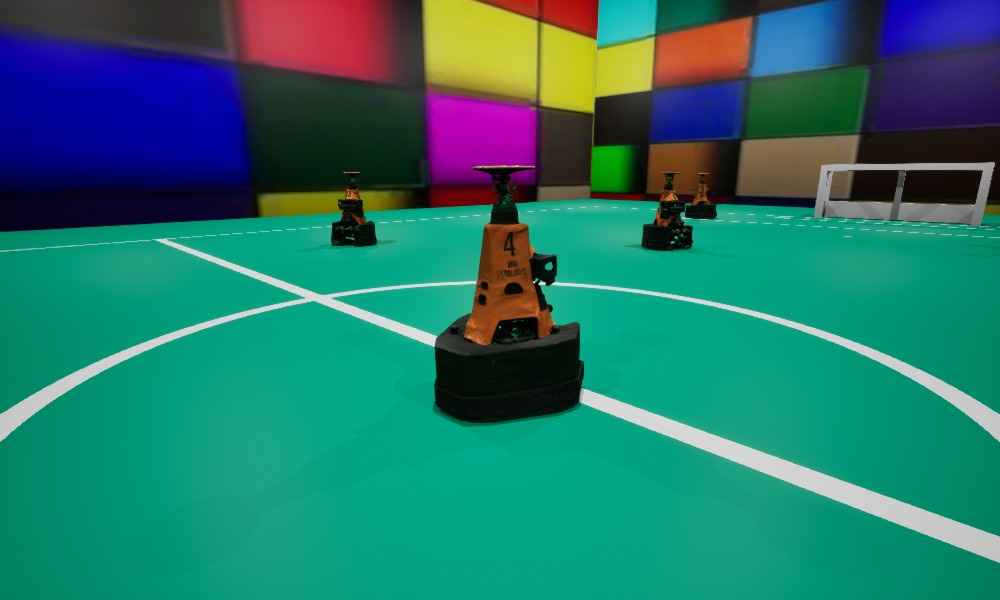o: (434, 165, 583, 422), (641, 172, 692, 250), (331, 172, 376, 245), (685, 173, 716, 218)
